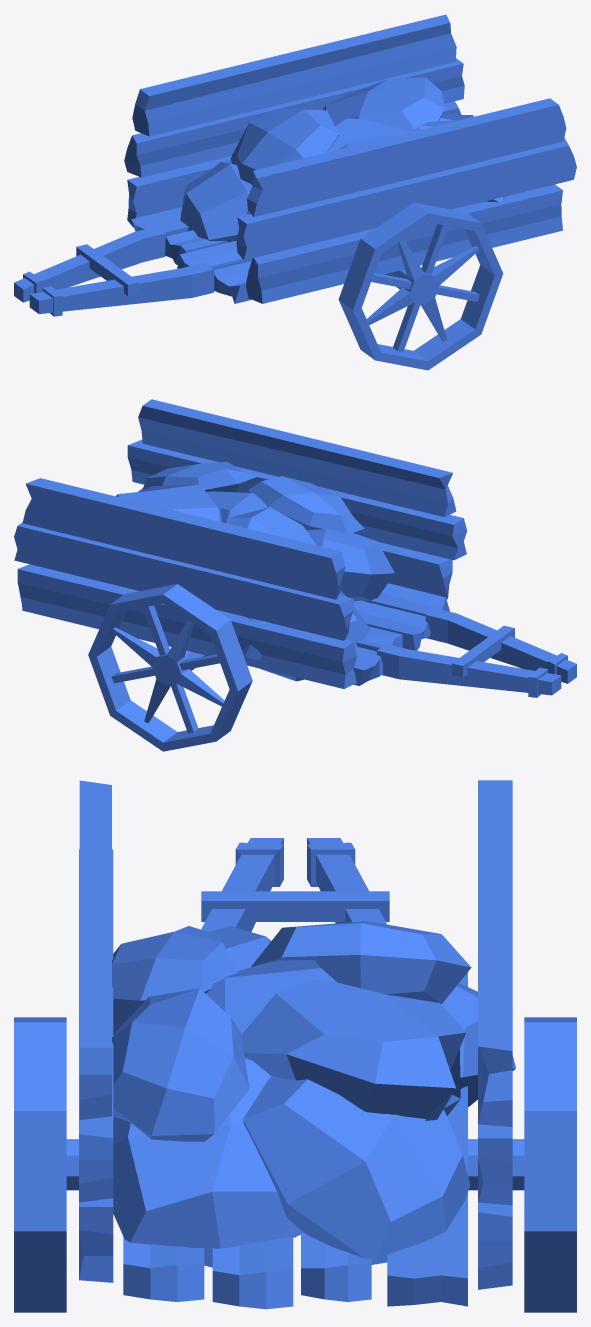
Rendered from Wooden_Cart_Variant2.fbx.
3 views of the same model, one above another, from view 1: azimuth 30°, elevation 25°; view 2: azimuth 150°, elevation 25°; view 3: azimuth 270°, elevation 25° (orthographic). The views are drawn at different scales.
Visible parts, largest first — view 1: Wooden_Cart_Variant2; view 2: Wooden_Cart_Variant2; view 3: Wooden_Cart_Variant2.
Part boxes in pixels (x1,y1,x2,y2): Wooden_Cart_Variant2: [14, 14, 576, 370]; Wooden_Cart_Variant2: [14, 399, 576, 751]; Wooden_Cart_Variant2: [14, 780, 576, 1312].
Size of the model in its own units: 276 by 115 by 149.
